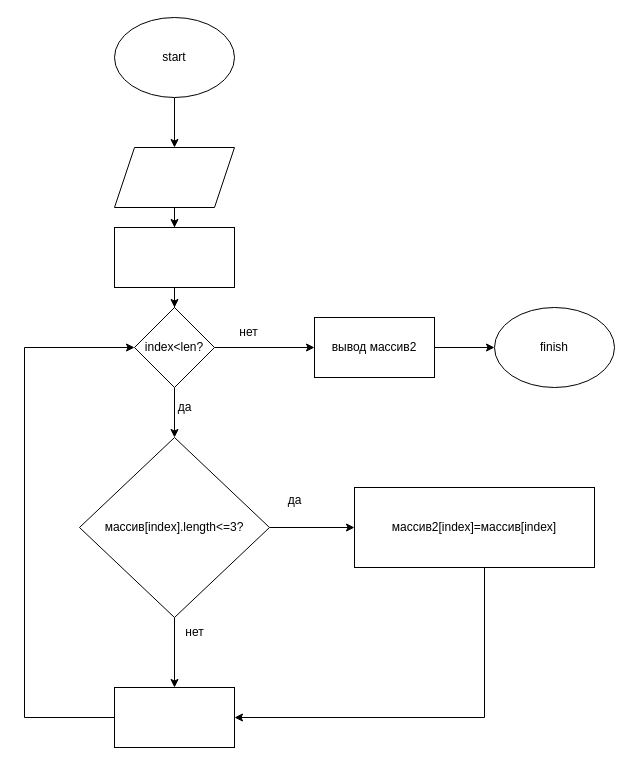
This 632x765 diagram has some shape labels left out. Each missing label, with the centre of its shape:
index++;: (174,717)
index=0 len=массив.length массив2=0.: (174,257)
массив: (174,177)
